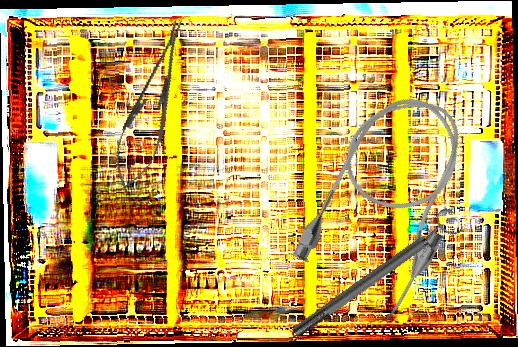Cannula: (285, 77, 494, 325)
Fixation Ring: (284, 204, 467, 346)
Needle Holder: (104, 14, 199, 199)
